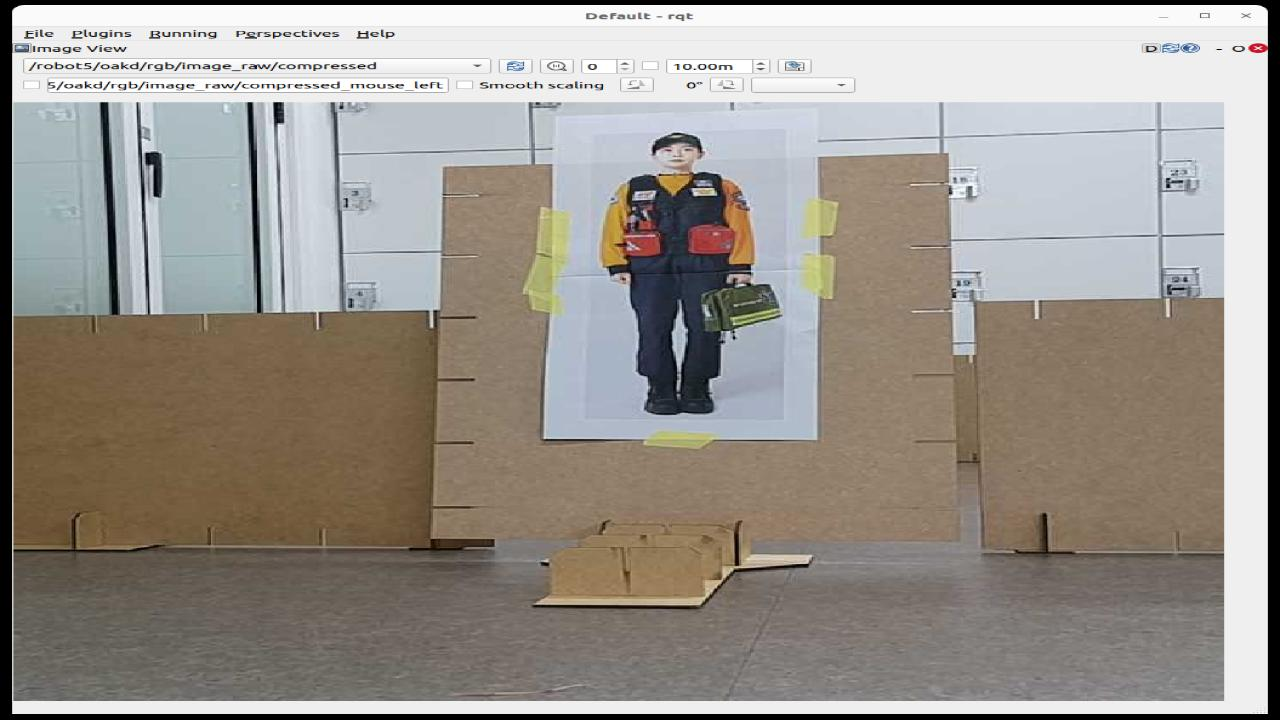Responder: (602, 133, 753, 414)
